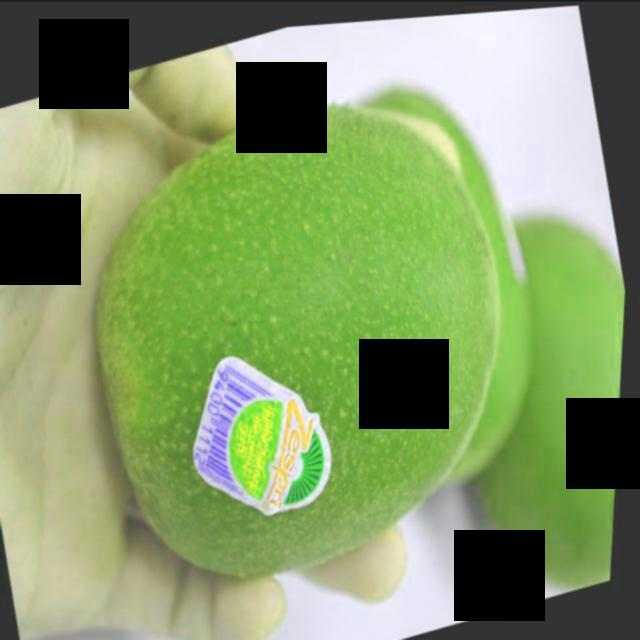kiwi: (48, 44, 574, 621), (307, 32, 588, 515), (416, 190, 634, 617)
